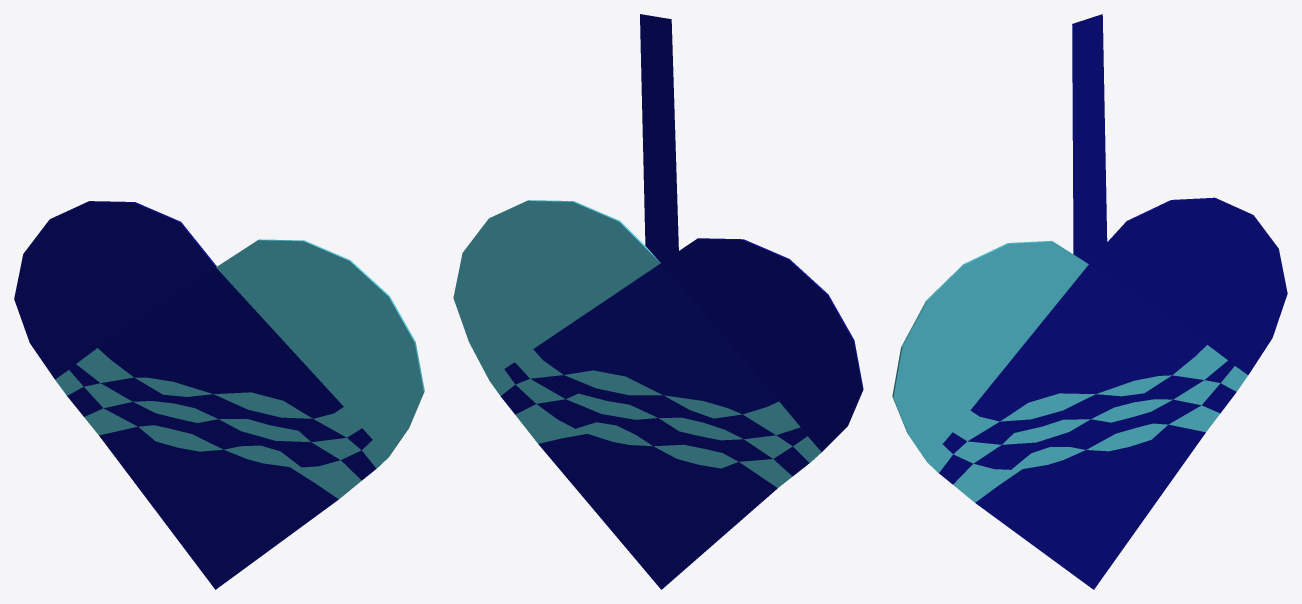
The model's file is heart20.glb.
3 renders of one model, left to right at view 1: azimuth 30°, elevation 25°; view 2: azimuth 210°, elevation 25°; view 3: azimuth 270°, elevation 25°, orthographic.
Visible parts, largest first — view 1: heart20; view 2: heart20; view 3: heart20.
Boxes of the visible parts, x1,y1,x2,y2 form: heart20: (14,201,424,589); heart20: (453,14,863,589); heart20: (892,14,1287,589).
Bounding box in the file's own units: 0.0727 × 0.186 × 0.1163.
